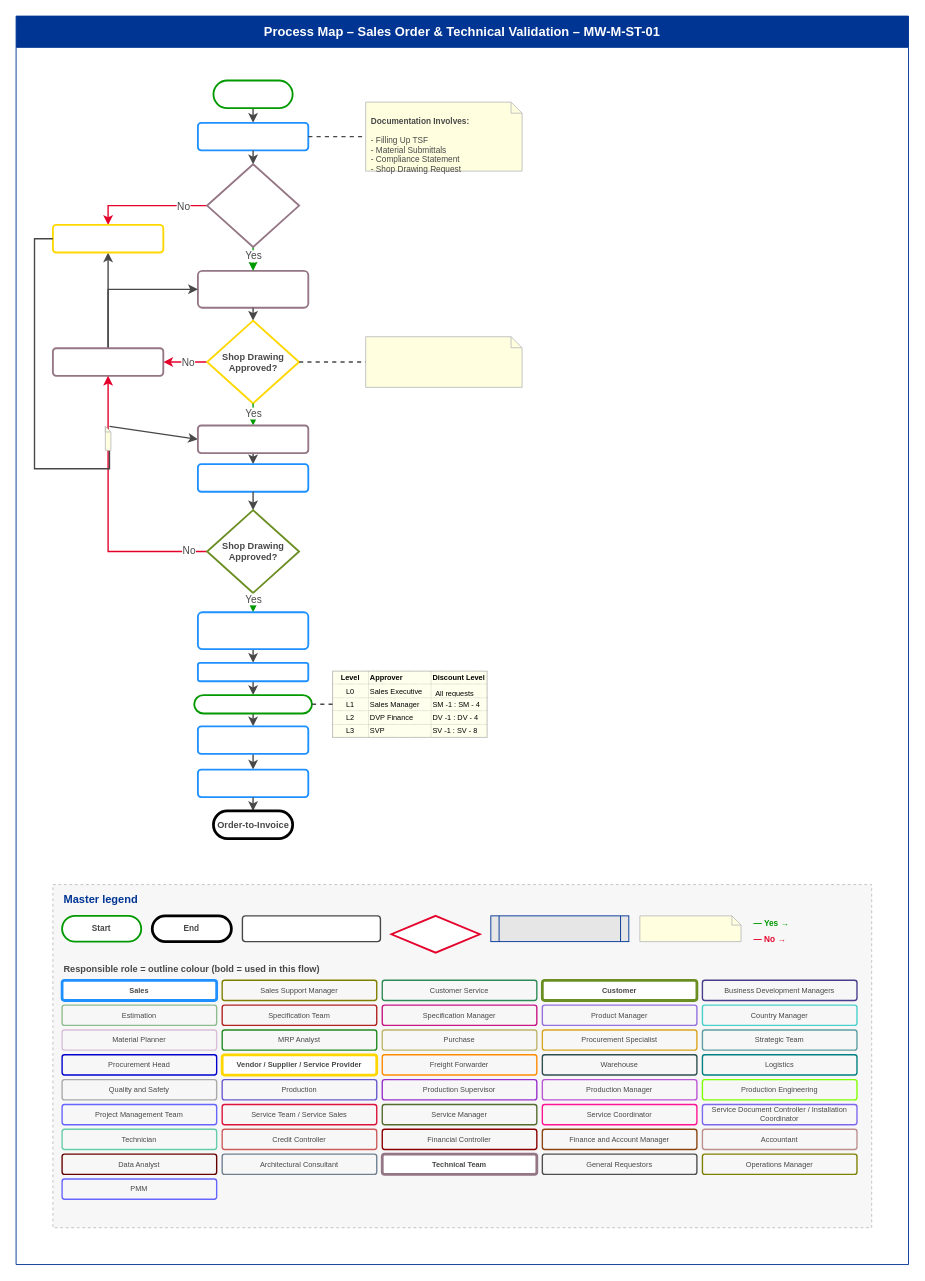
Image size: 925x1281. Some labels were removed from this diagram. Each missing label, with the box of its shape:
Activity (outline = role): (241, 915, 381, 942)
Collect Advance Payment: (197, 768, 309, 798)
Create SO/OC: (197, 661, 309, 682)
Decision: (390, 914, 480, 953)
Discount Approval: (193, 694, 312, 714)
Document Change Needed: (52, 347, 164, 376)
Factory Review: - Technical Review - Site and product compatibility: (365, 336, 522, 387)
Get the Shop drawing Approved by Customer: (197, 463, 309, 492)
Linked process (Ref ID): (490, 915, 629, 942)
Non SKYFOLD ?: (206, 163, 300, 247)
Note / checklist: (639, 915, 741, 942)
Planning and approval: (197, 121, 309, 151)
Prepare /Revise Shop drawing as per Site requirement: (197, 270, 309, 308)
Sales Order Processing: (212, 79, 293, 109)
Send to customer and get approval on Shop Drawing: (197, 611, 309, 650)
Share confirmed SO/OC with Customer: (197, 725, 309, 754)
Share Shop Drawing with Sales: (197, 424, 309, 454)
Shop drawing as per Site requirement: (52, 224, 164, 253)
